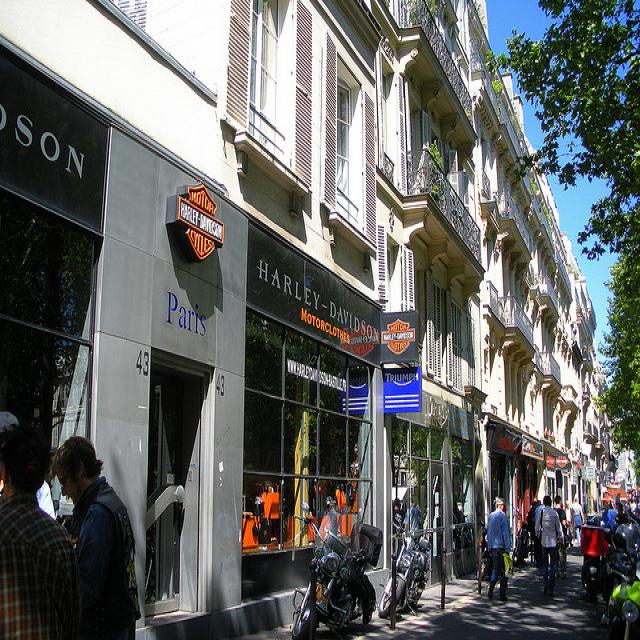motor: (293, 504, 376, 640), (379, 522, 434, 614), (600, 547, 640, 640), (511, 529, 529, 566)
